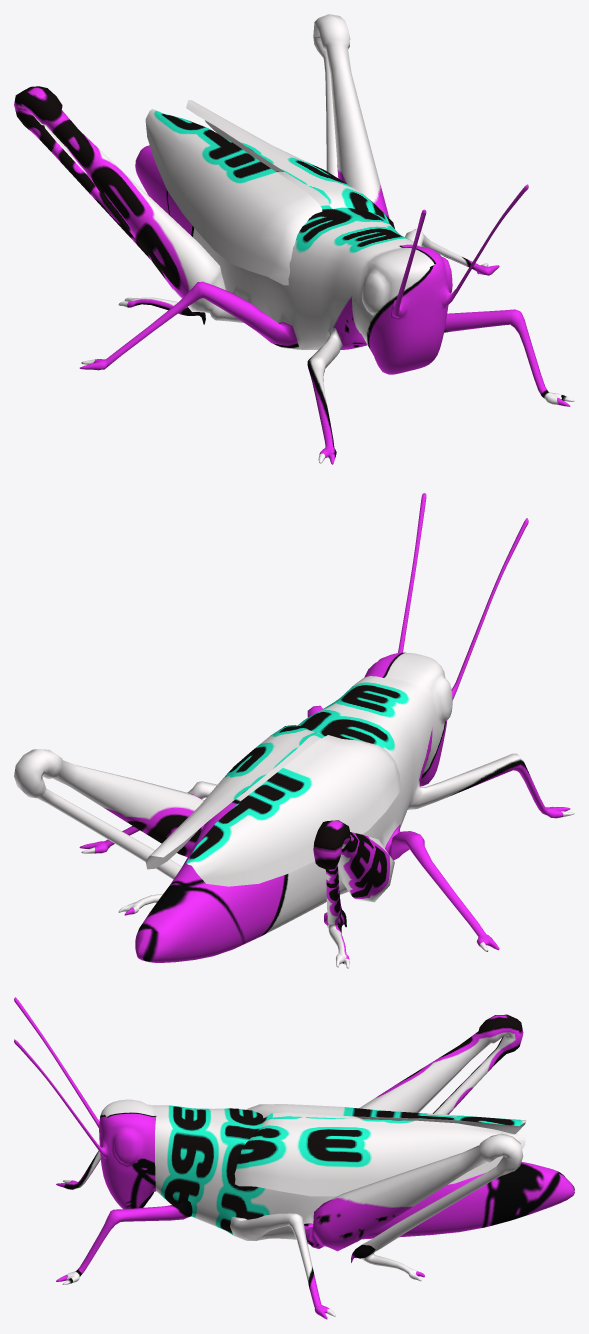
The model's file is grasshopper.FBX.
The picture shows the model from 3 angles, top to bottom: view 1: azimuth 30°, elevation 25°; view 2: azimuth 150°, elevation 25°; view 3: azimuth 270°, elevation 25°; orthographic projection. The views are drawn at different scales.
Parts seen in each view (by area): view 1: Grasshopper, Grasshopper Wings; view 2: Grasshopper, Grasshopper Wings; view 3: Grasshopper, Grasshopper Wings.
Part boxes in pixels (x1,y1,x2,y2): Grasshopper: (14,14,574,464); Grasshopper Wings: (145,100,394,285); Grasshopper: (14,493,574,968); Grasshopper Wings: (145,725,400,886); Grasshopper: (14,997,574,1319); Grasshopper Wings: (234,1104,526,1196).
Size of the model in its own units: 56.78 by 33.49 by 78.47.
